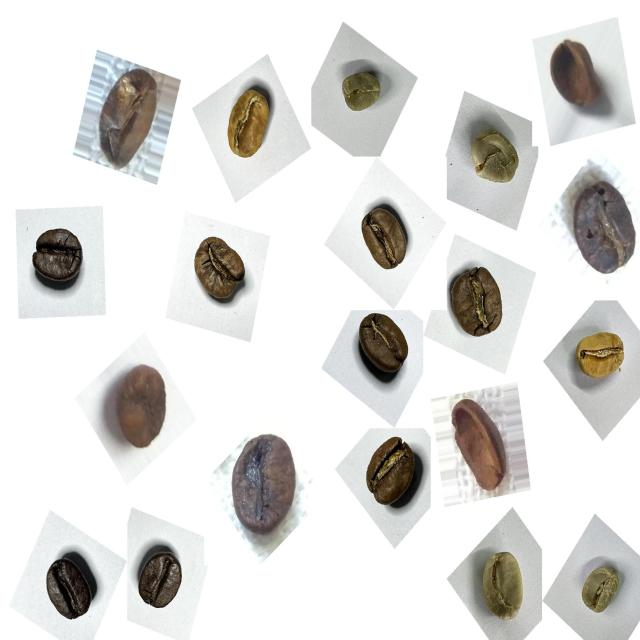bad: (221, 424, 308, 544), (87, 61, 170, 178), (558, 167, 636, 282), (99, 356, 180, 463), (446, 390, 517, 499), (544, 31, 612, 118)
dark: (35, 541, 105, 632), (21, 216, 94, 303), (128, 533, 192, 621)
green: (458, 112, 528, 198), (571, 555, 629, 627), (479, 539, 528, 622), (332, 61, 388, 126)
light: (213, 79, 286, 175), (349, 193, 414, 280), (568, 320, 638, 396)
medium: (441, 259, 518, 351), (354, 426, 430, 516), (182, 230, 254, 316), (351, 309, 418, 383)
